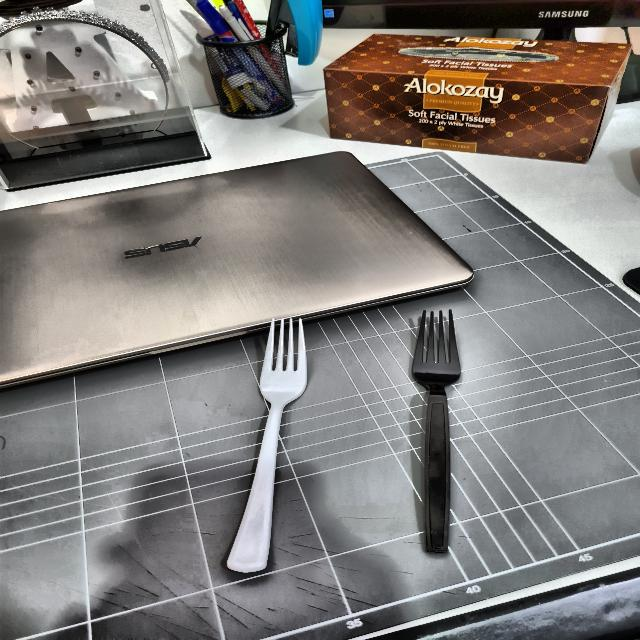plastic utensil: (227, 311, 316, 572), (412, 312, 462, 546)
